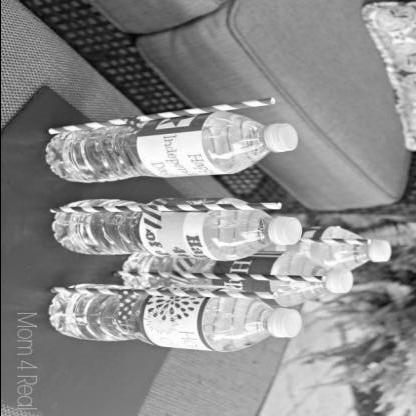bottle: (43, 107, 304, 187), (45, 288, 309, 352), (46, 198, 298, 260), (116, 249, 352, 303), (306, 226, 392, 272)
